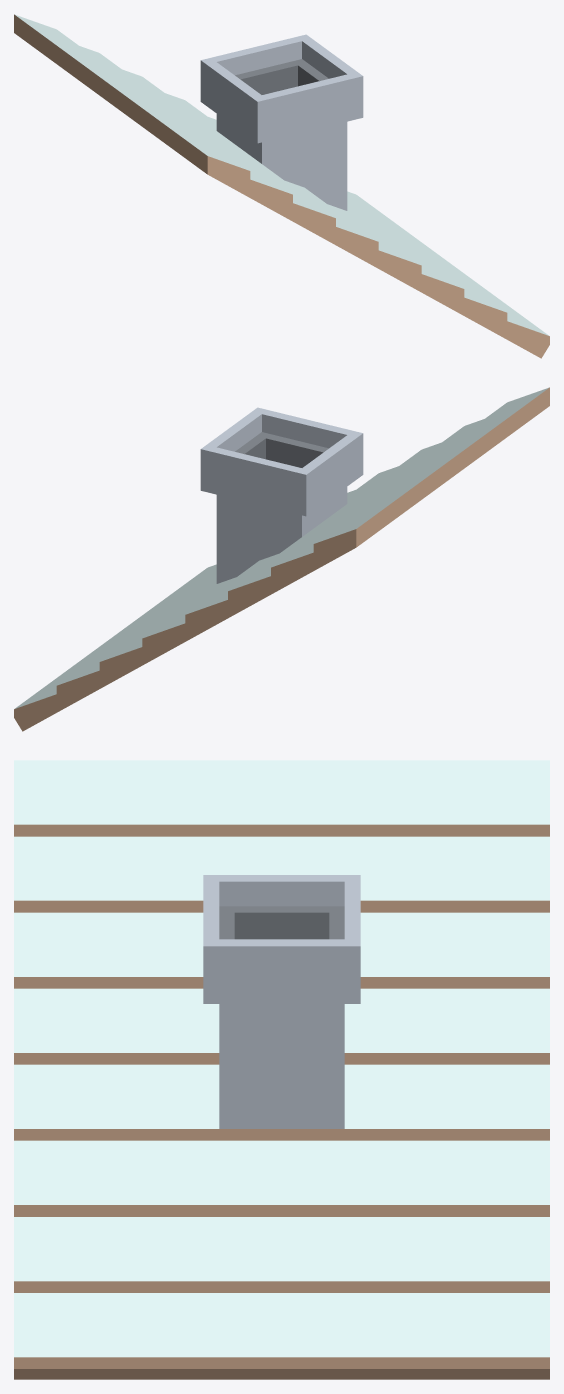
The model's file is cabinRoofChimney.glb.
3 renders of one model, top to bottom at view 1: azimuth 30°, elevation 25°; view 2: azimuth 150°, elevation 25°; view 3: azimuth 270°, elevation 25°, orthographic. The views are drawn at different scales.
Visible parts, largest first — view 1: cabinRoofChimney(Clone); view 2: cabinRoofChimney(Clone); view 3: cabinRoofChimney(Clone).
Part boxes in pixels (<box>): cabinRoofChimney(Clone): <box>14,14,549,358</box>; cabinRoofChimney(Clone): <box>14,387,549,731</box>; cabinRoofChimney(Clone): <box>14,760,549,1379</box>.
Bounding box in the file's own units: 1.21 × 0.9559 × 1.18.
